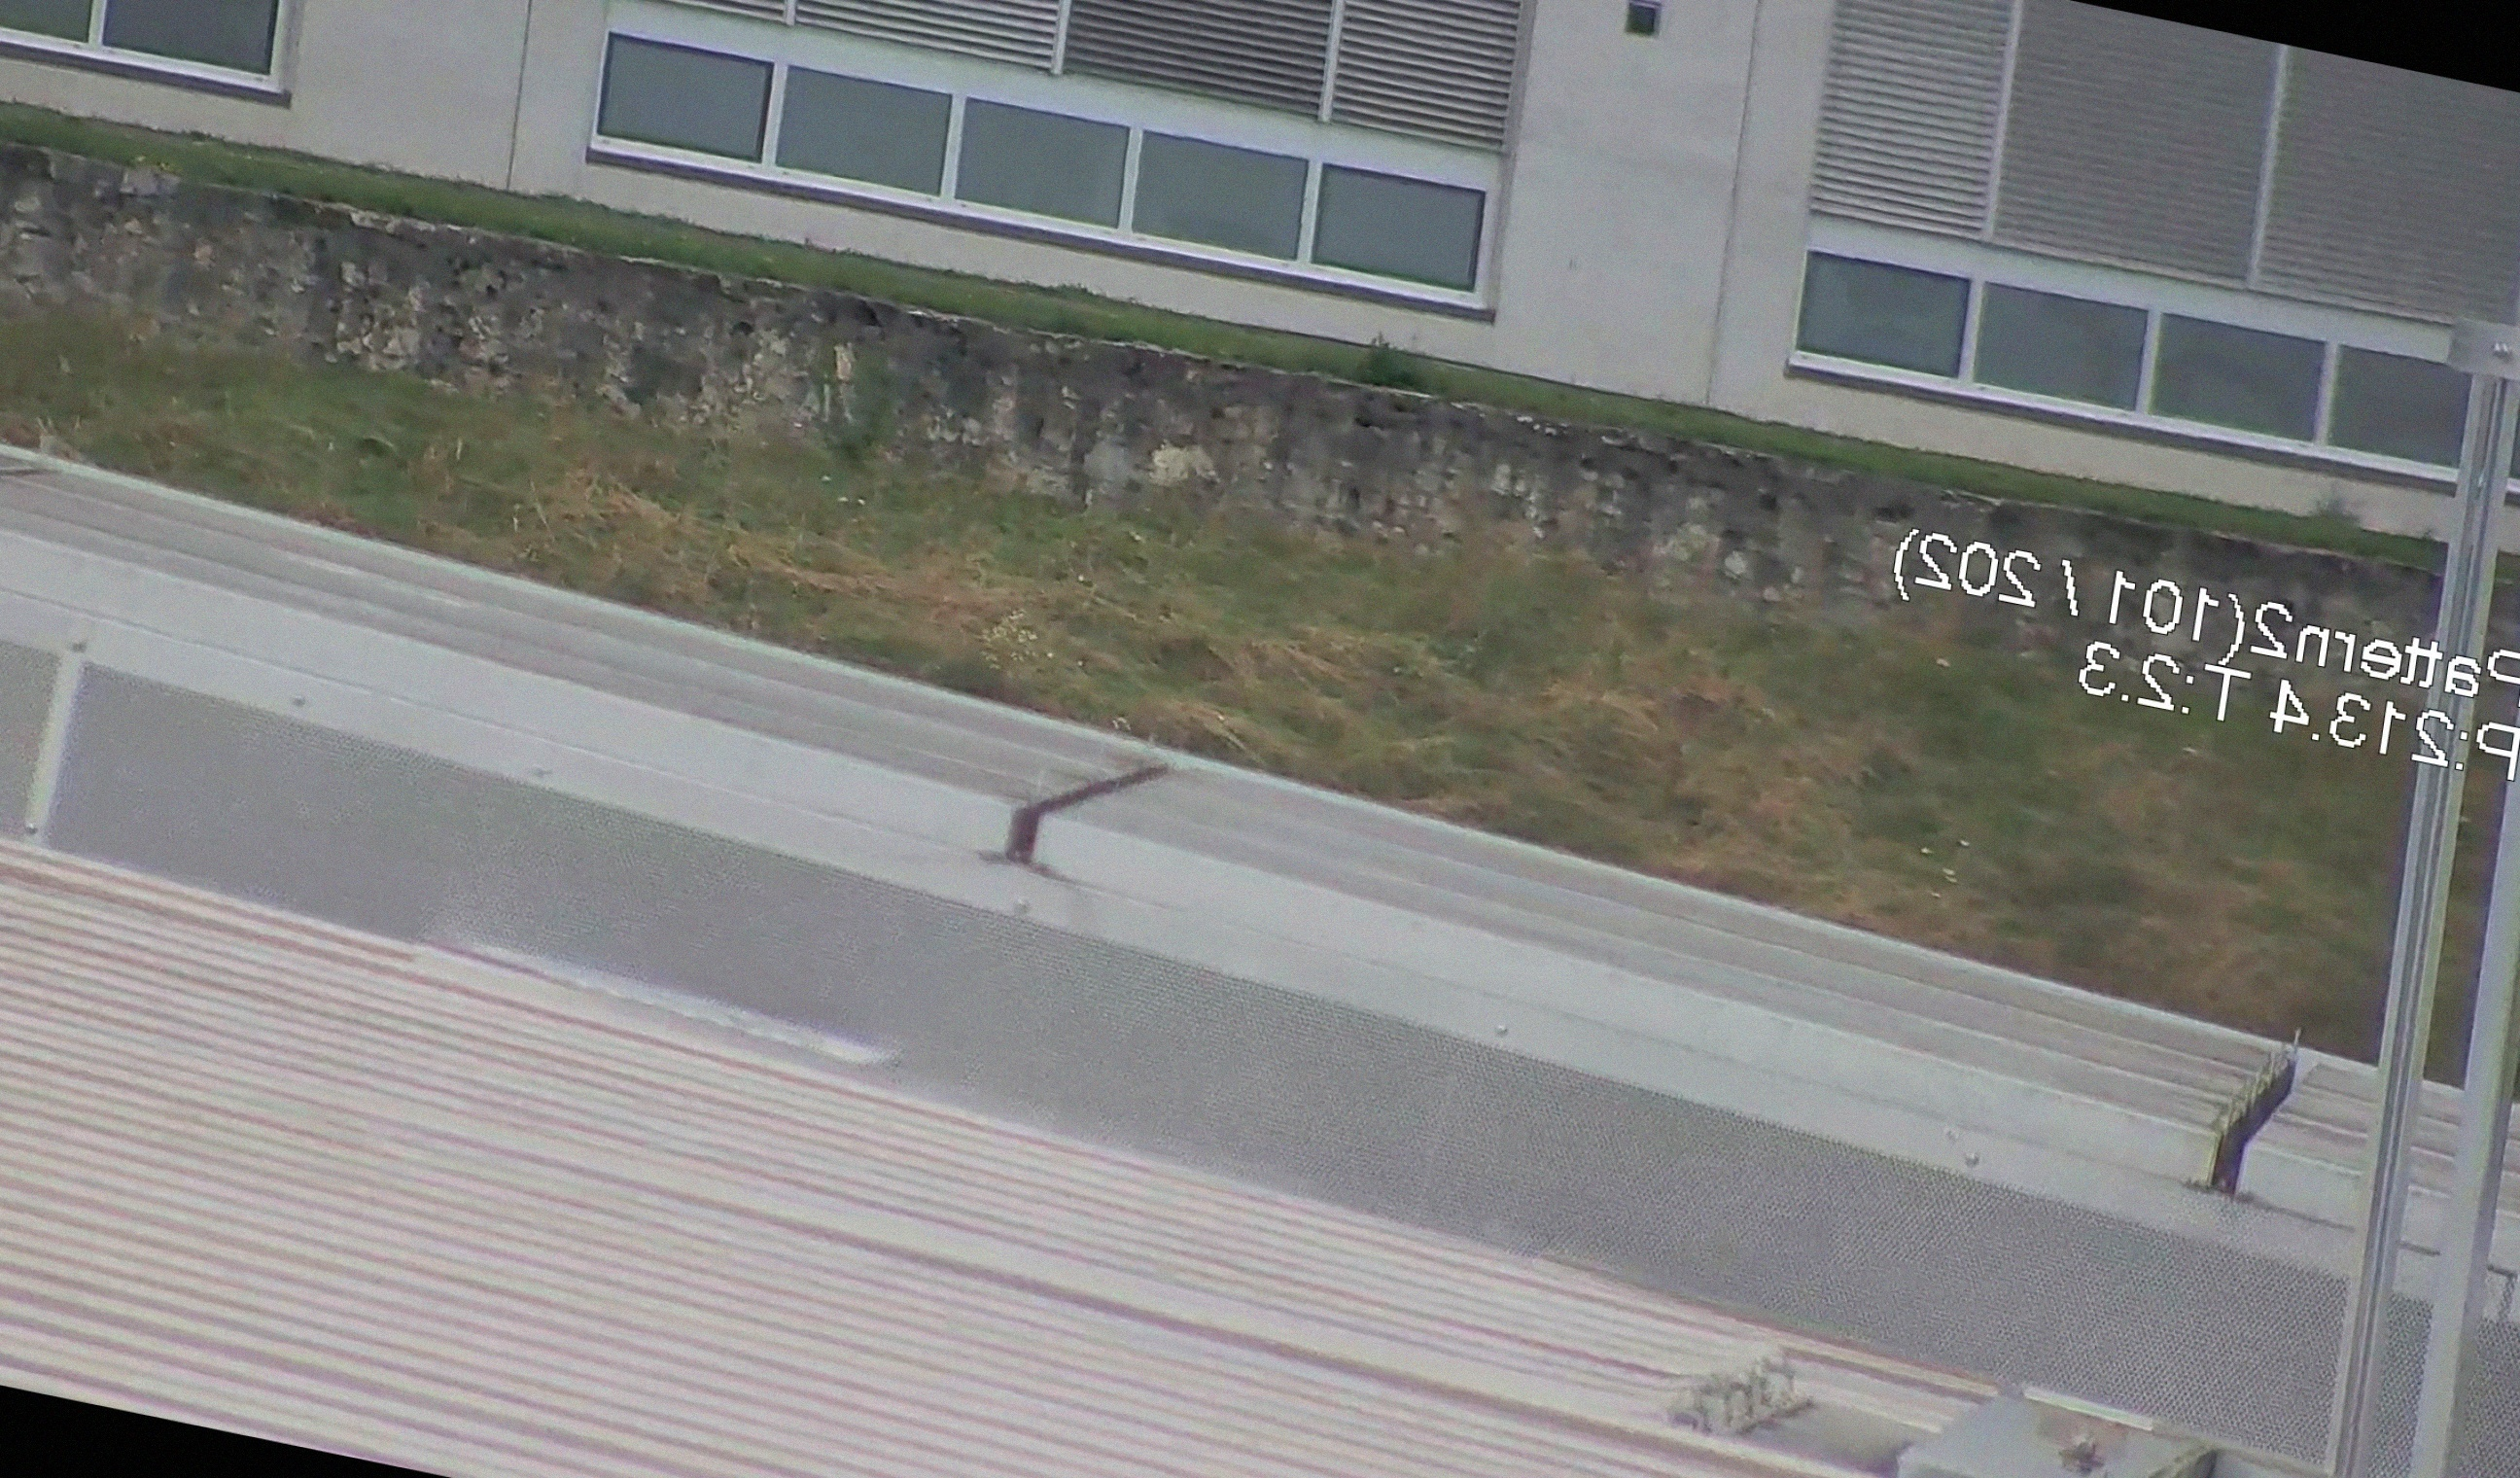Other: (2182, 1013, 2321, 1226)
